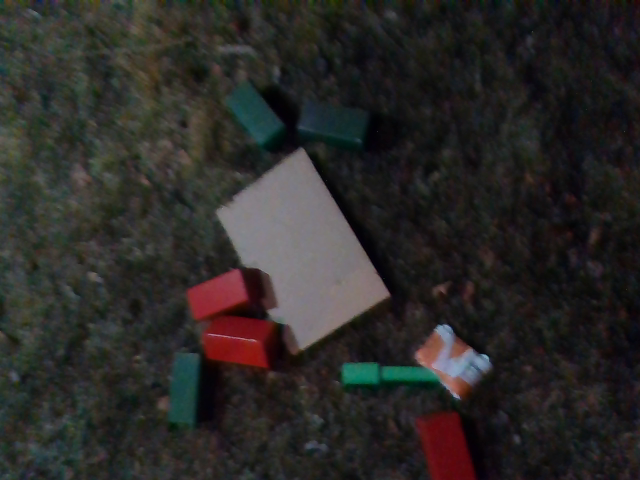Probe: (333, 357, 471, 394)
